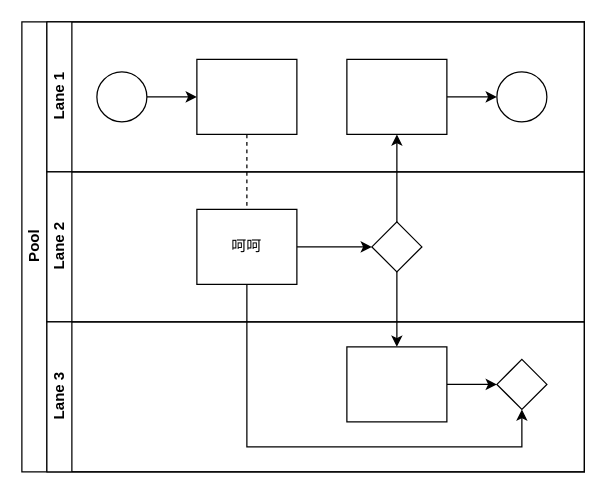
This 606x494 diagram has some shape labels left out. Here are the shapes that lost their labels. From the top down, the centre of each, then its label:
the point at 121,96: 开始
the point at 246,96: 哈哈
